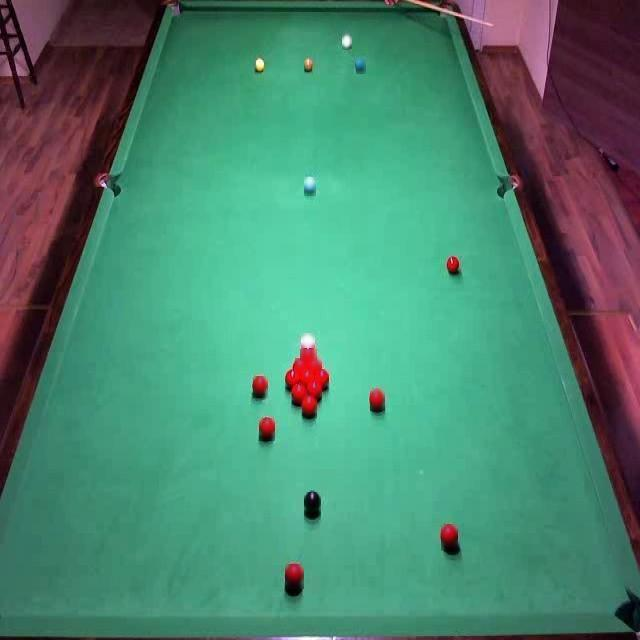Ball: (285, 564, 304, 589), (441, 524, 458, 551), (304, 492, 321, 517), (259, 418, 275, 441), (370, 388, 385, 411), (253, 376, 268, 398), (303, 395, 317, 418), (307, 379, 322, 399), (446, 257, 461, 276), (293, 383, 307, 403), (286, 369, 301, 386), (304, 177, 316, 196), (315, 369, 329, 385), (301, 333, 315, 348), (307, 356, 322, 370), (300, 349, 317, 361), (302, 368, 314, 383), (295, 358, 307, 373), (356, 57, 366, 74), (304, 58, 315, 73), (342, 33, 352, 49), (255, 58, 265, 71)
